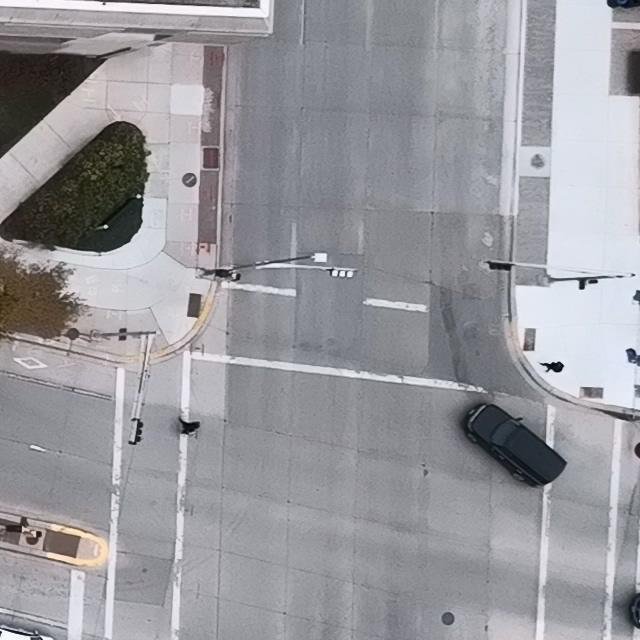car: (463, 403, 568, 487)
